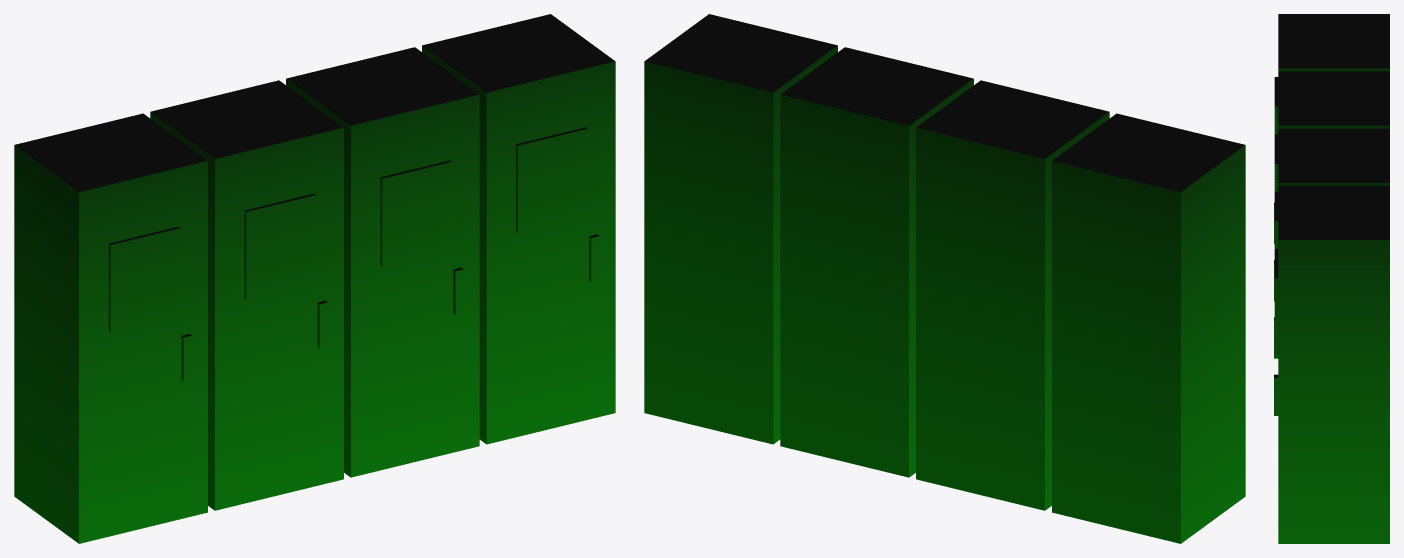
Rendered from lockers.glb.
The picture shows the model from 3 angles, left to right: view 1: azimuth 30°, elevation 25°; view 2: azimuth 150°, elevation 25°; view 3: azimuth 270°, elevation 25°; orthographic projection. The views are drawn at different scales.
Parts seen in each view (by area): view 1: lod0; view 2: lod0; view 3: lod0.
Part boxes in pixels (x1,y1,x2,y2): lod0: (14,14,615,543); lod0: (644,14,1245,543); lod0: (1274,14,1389,543).
Size of what is drawn, in the model's own units: 3.83 by 2.4 by 0.83.
